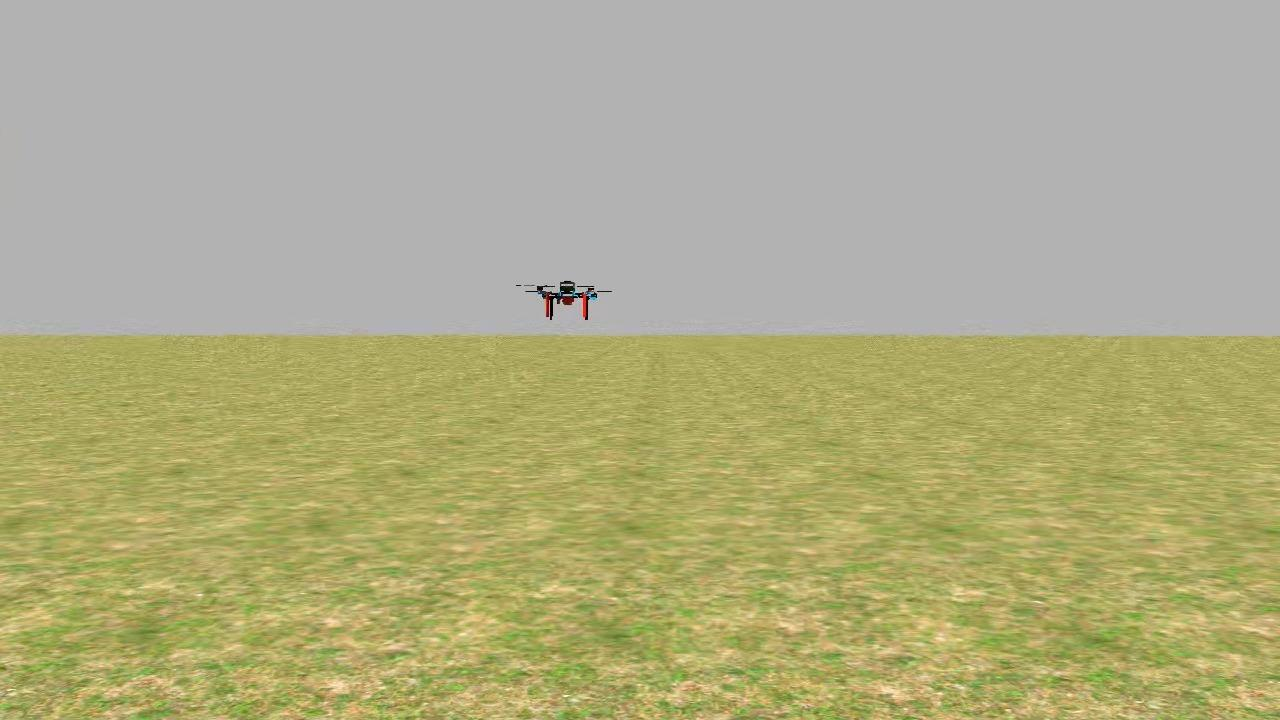UAV: (528, 272, 603, 323)
